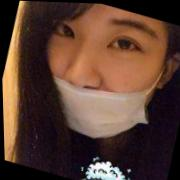WRONG: (25, 2, 178, 153)
